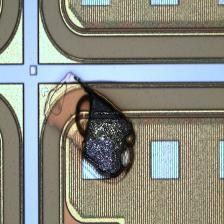PARTICLE: (40, 73, 134, 184)
